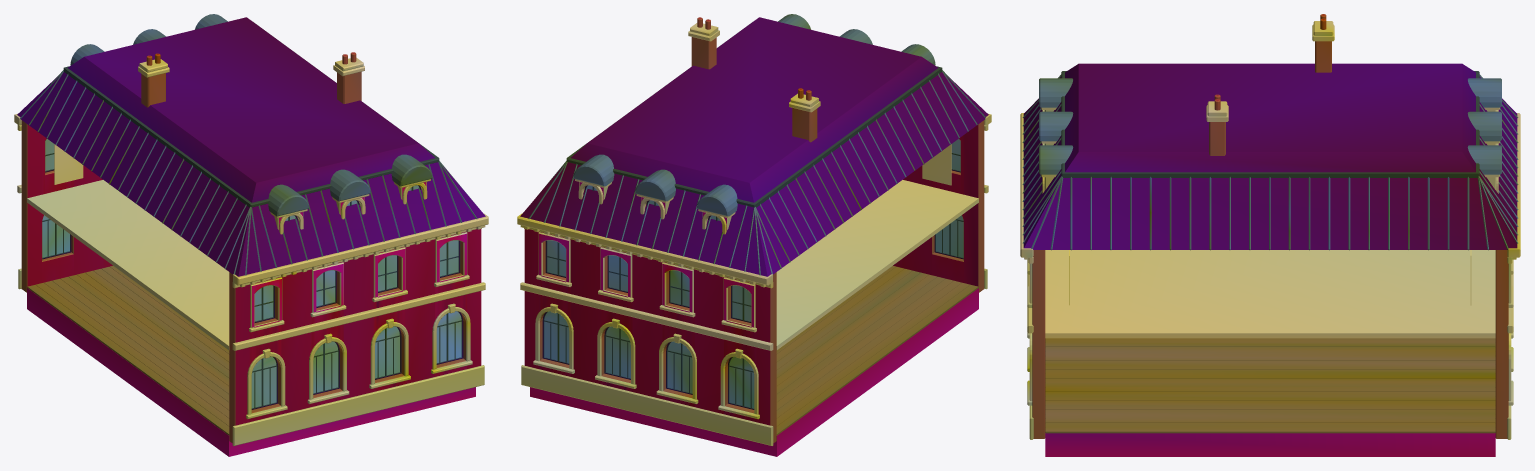
The model's file is GS_Wing_Link.glb.
The picture shows the model from 3 angles, left to right: view 1: azimuth 30°, elevation 25°; view 2: azimuth 150°, elevation 25°; view 3: azimuth 270°, elevation 25°; orthographic projection. The views are drawn at different scales.
Visible parts, largest first — view 1: GS_Wing_Link; view 2: GS_Wing_Link; view 3: GS_Wing_Link.
Boxes of the visible parts, box(x1,y1,x2,y2) form: GS_Wing_Link: box(14, 14, 488, 456); GS_Wing_Link: box(517, 14, 991, 456); GS_Wing_Link: box(1020, 14, 1520, 456).
Bounding box in the file's own units: 12.2 × 13.85 × 18.9.
